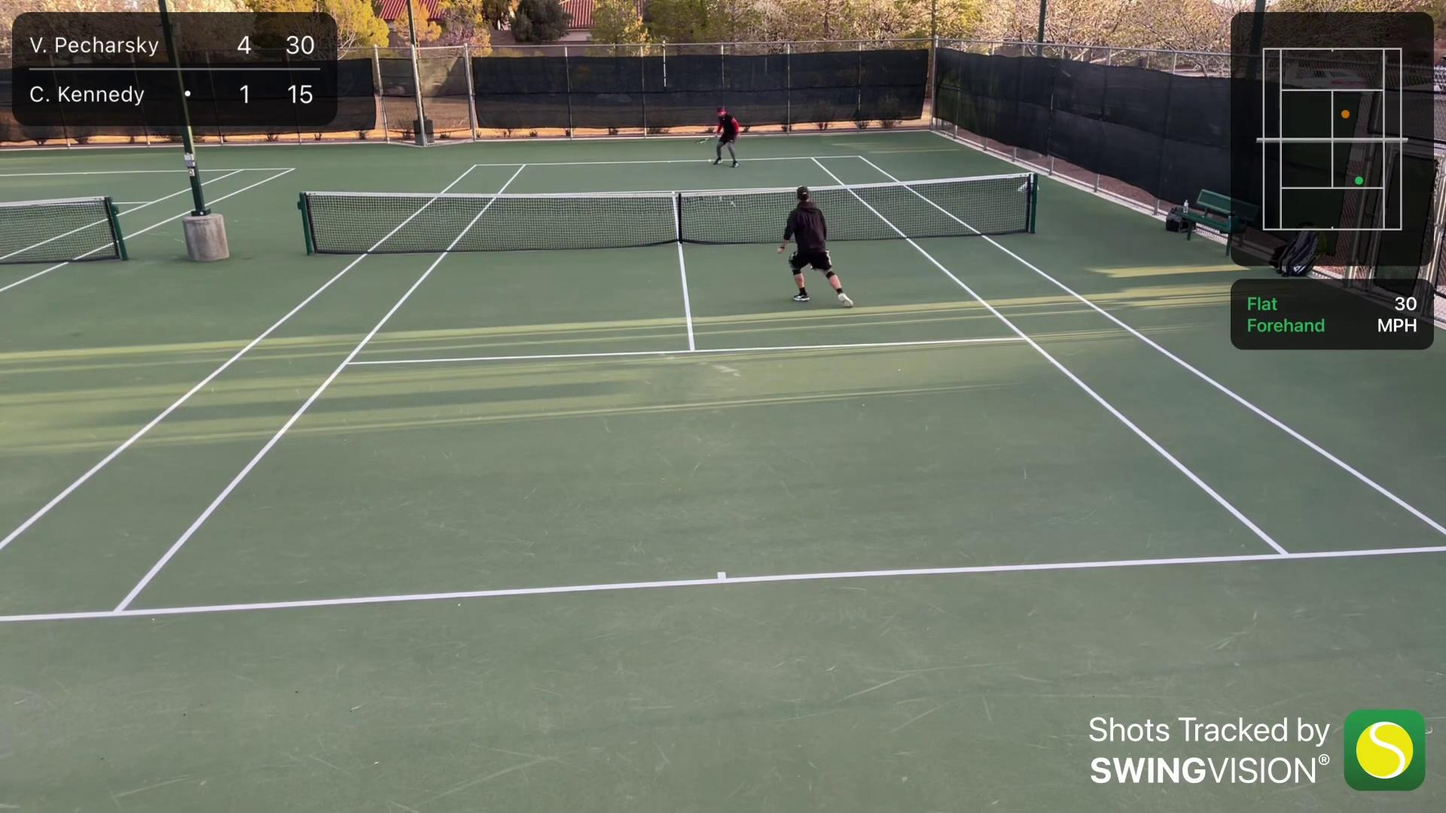ball: (707, 158, 712, 163)
